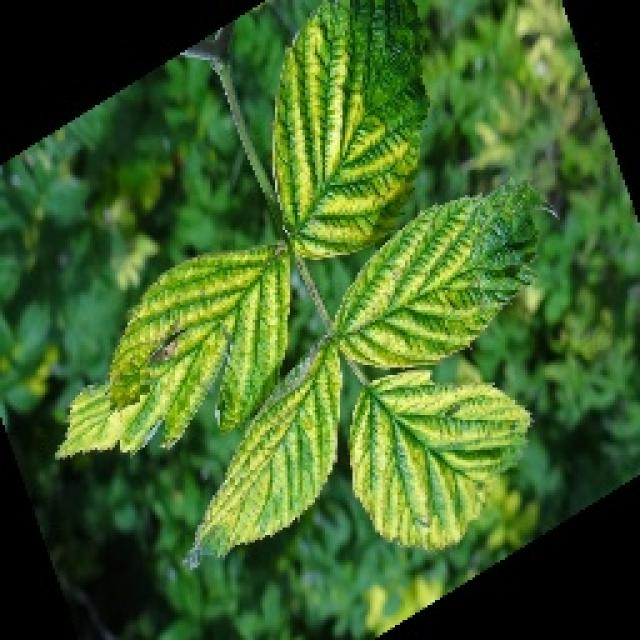Chlorosis: (90, 49, 542, 537)
